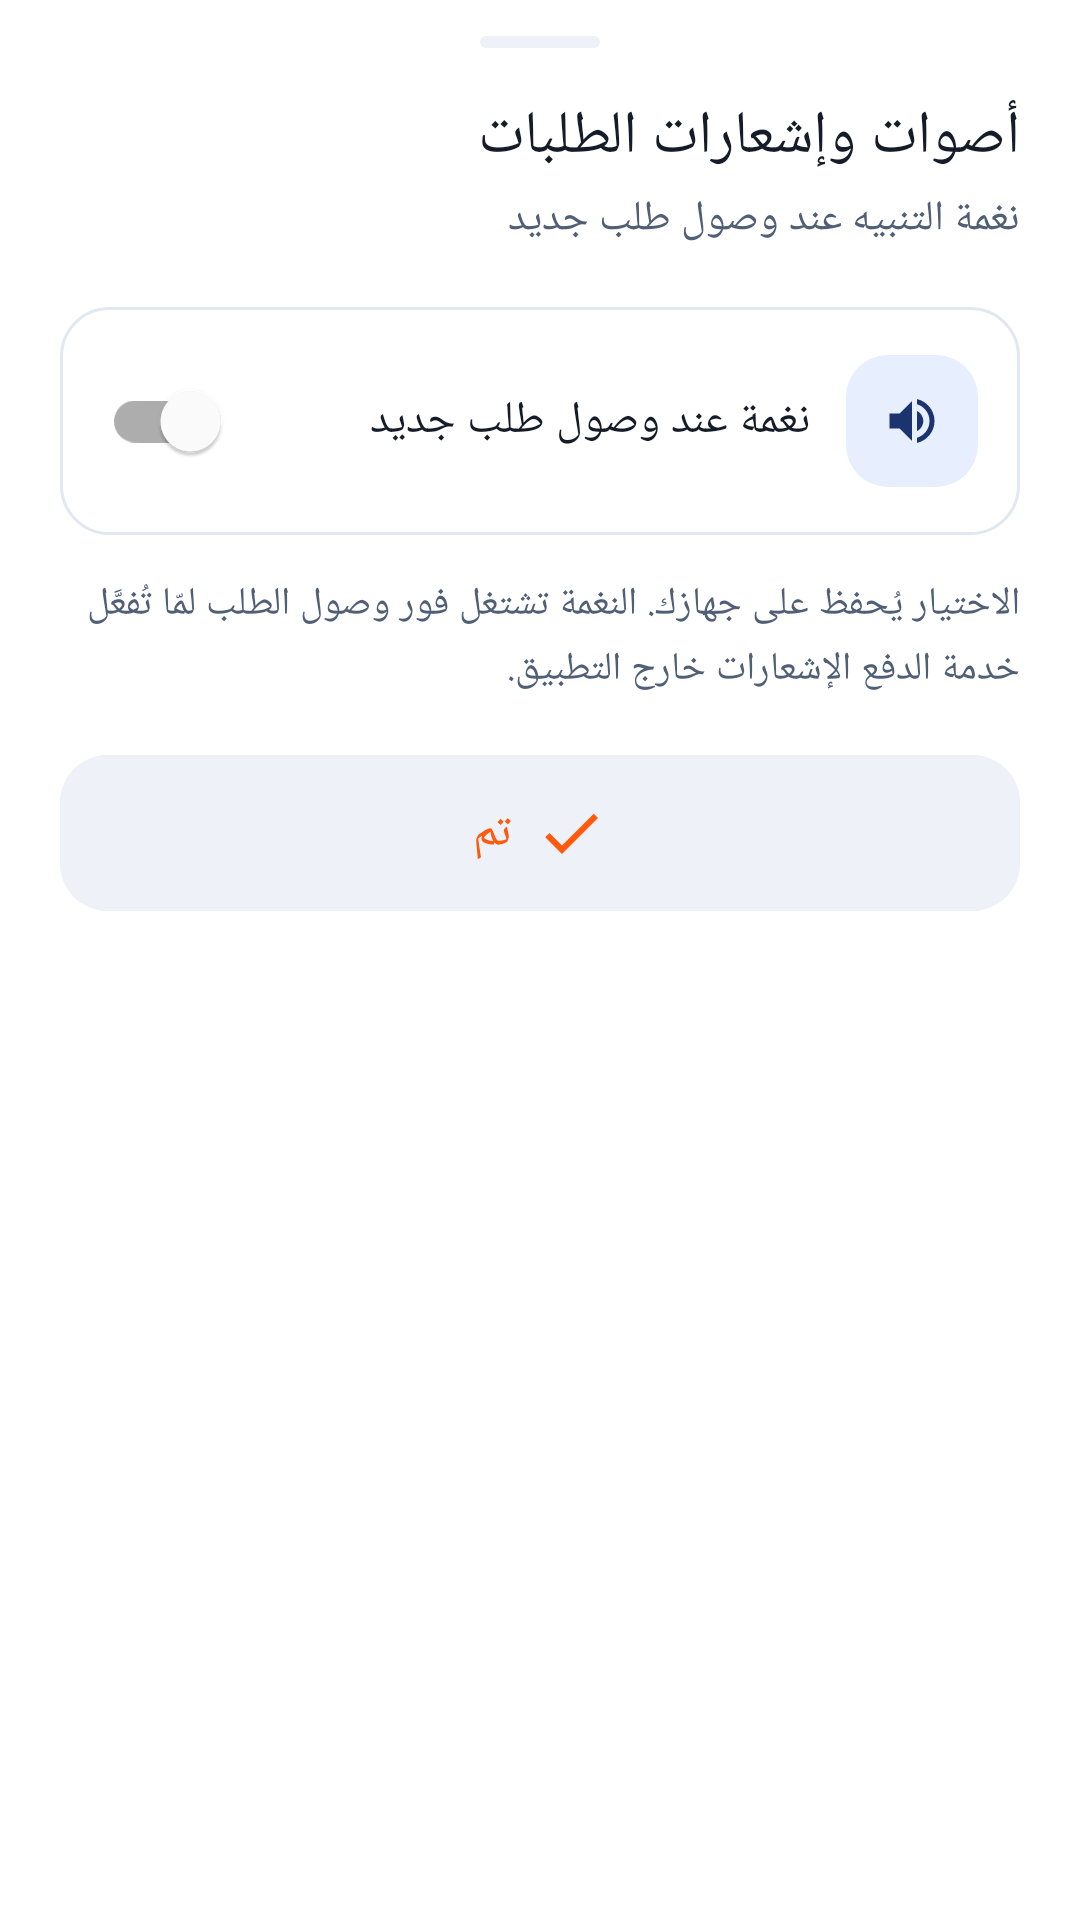

Named icons in this screenshot (1080w x 1920h) and their bounding boxes, [left=x1, top=y1, right=x2, bottom=y2]:
volume up: [left=889, top=399, right=935, bottom=443]
